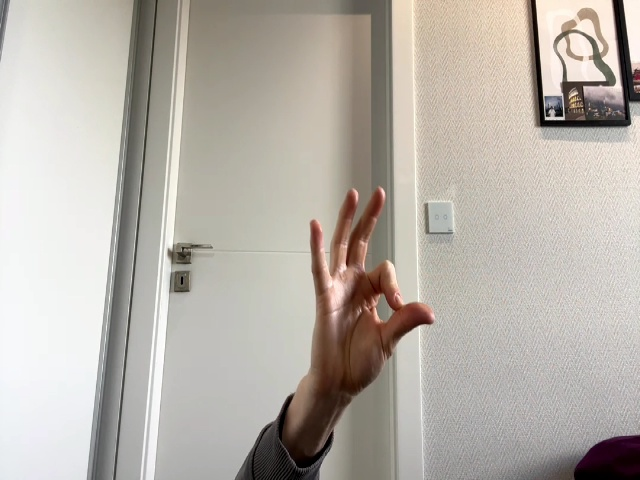S: (310, 187, 435, 383)
